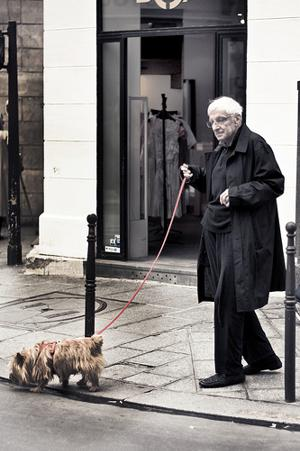person: (180, 95, 284, 388)
